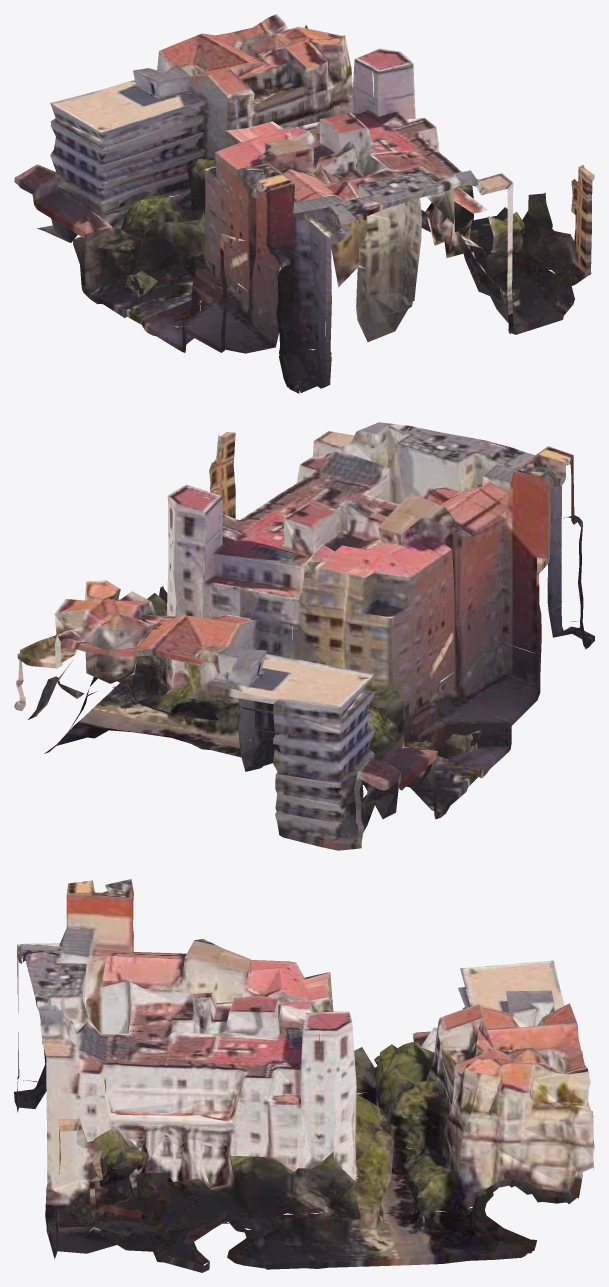
3 renders of one model, top to bottom at view 1: azimuth 30°, elevation 25°; view 2: azimuth 150°, elevation 25°; view 3: azimuth 270°, elevation 25°, orthographic. The views are drawn at different scales.
Parts seen in each view (by area): view 1: Mesh_0; view 2: Mesh_0; view 3: Mesh_0.
Boxes of the visible parts, bbox=[...] form: Mesh_0: bbox=[14, 14, 594, 393]; Mesh_0: bbox=[14, 422, 594, 850]; Mesh_0: bbox=[14, 879, 594, 1272].
Bounding box in the file's own units: 66.59 × 38.17 × 82.46.
1 material, 1 textured.
